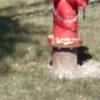Hydrant: (42, 2, 89, 81)
